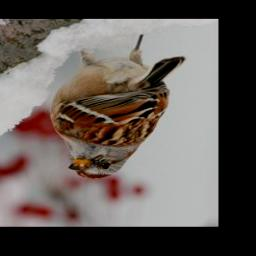Sparrow: (48, 33, 185, 180)
